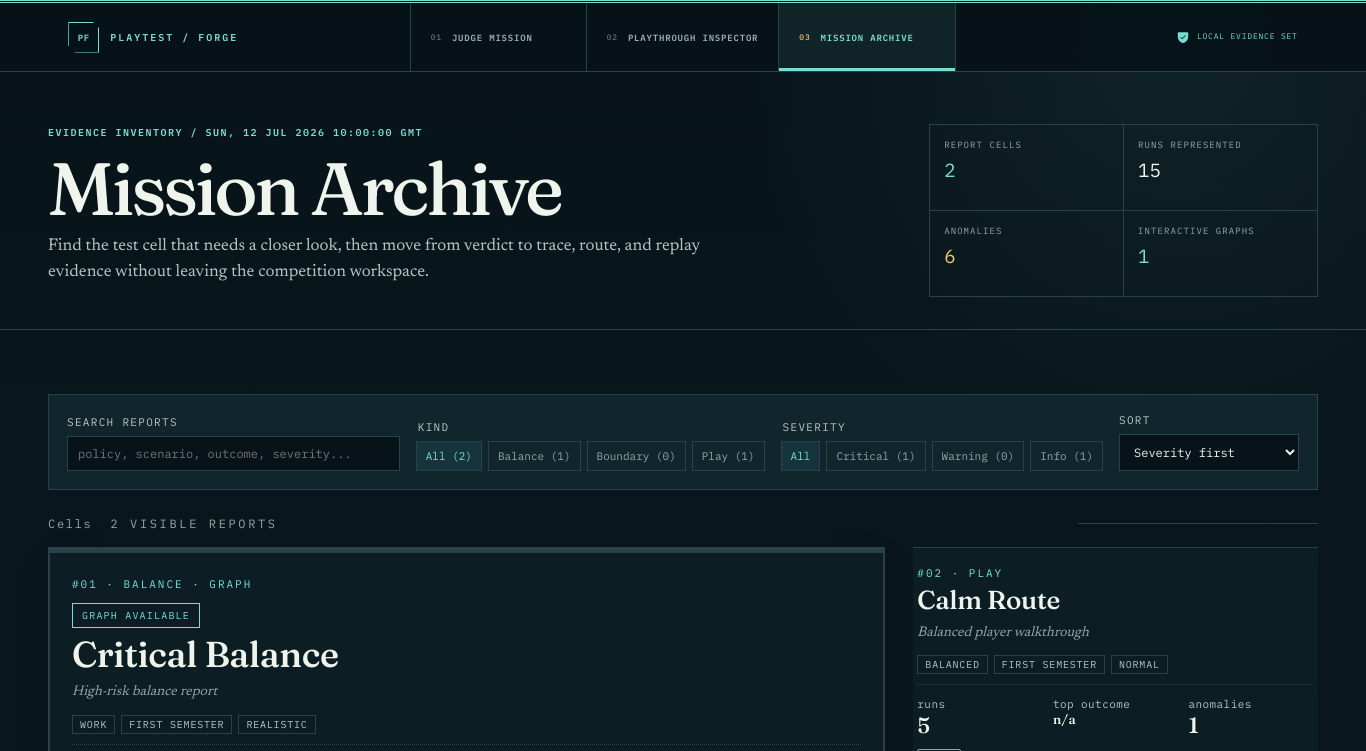
Scenario: application routes › renders the report index and filters cards with search and severity controls
The width and height of the screenshot is (1366, 751).
Check: the heading "Mission Archive" is shown, box left=48, top=143, right=561, bottom=234
Check: the heading "Critical Balance" is shown, box left=72, top=632, right=338, bottom=676
Type "calm" into the field with placeholder "policy, scenario, outcome, severity...". click: (233, 454)
box: left=67, top=436, right=400, bottom=471
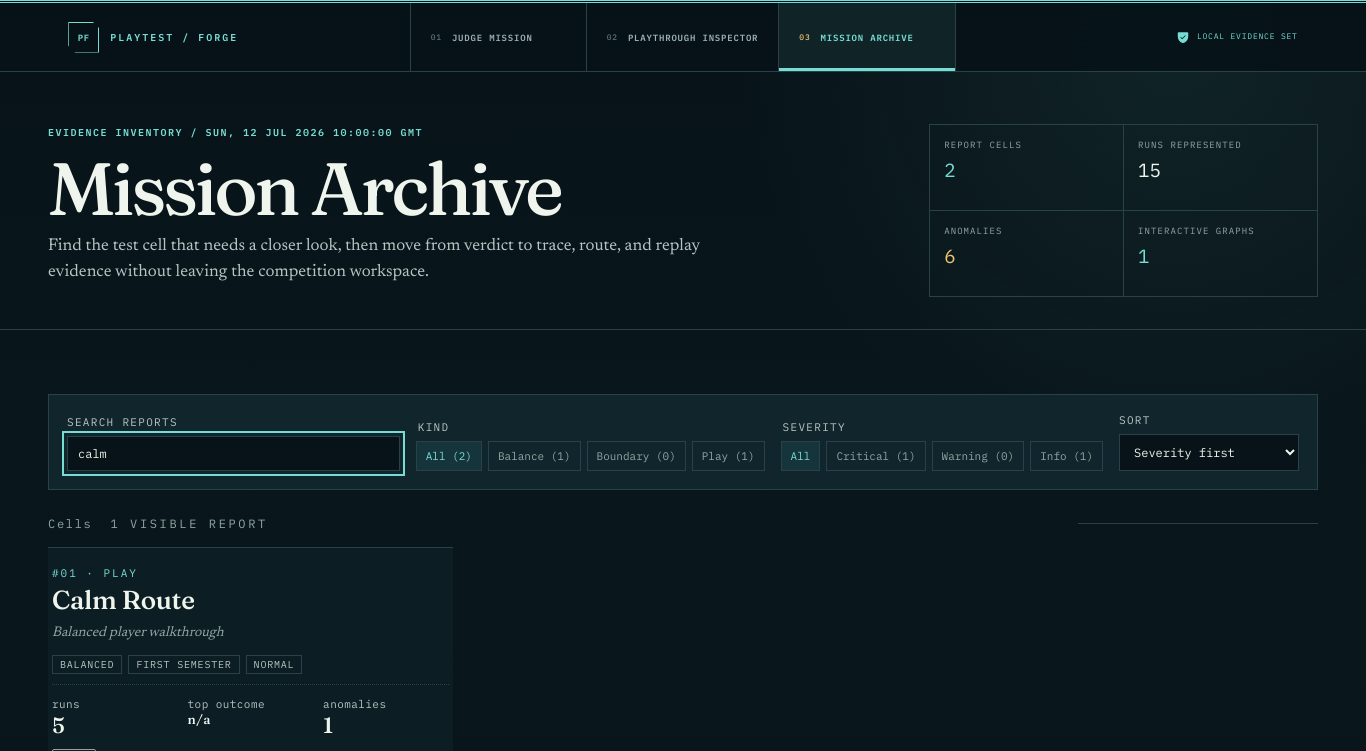
Check: the heading "Calm Route" is shown, box left=52, top=584, right=195, bottom=616
Check: the link "Critical Balance" is gone
Clear the field with placeholder "policy, scenario, outcome, severity...". click: (233, 454)
box: left=67, top=436, right=400, bottom=471
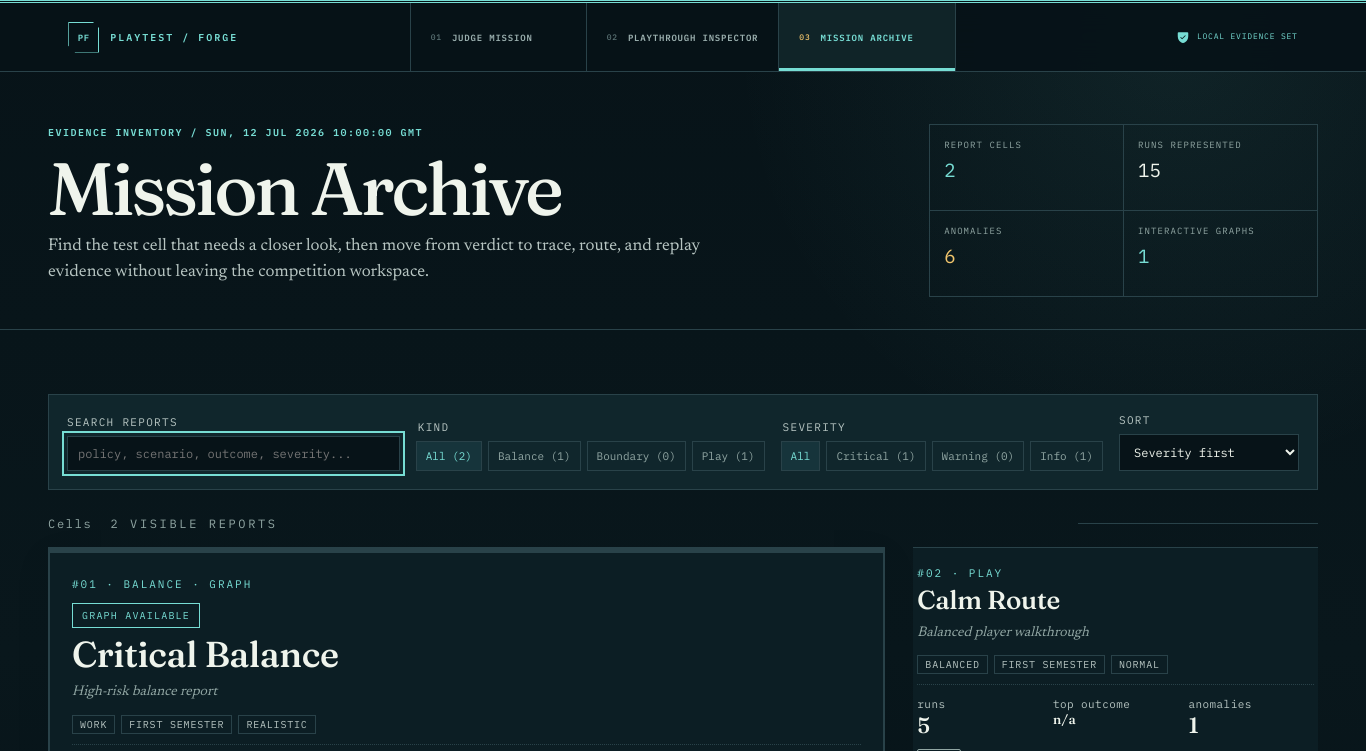
Click the button "Info (1)". click: click(1067, 456)
box: left=1030, top=441, right=1103, bottom=471
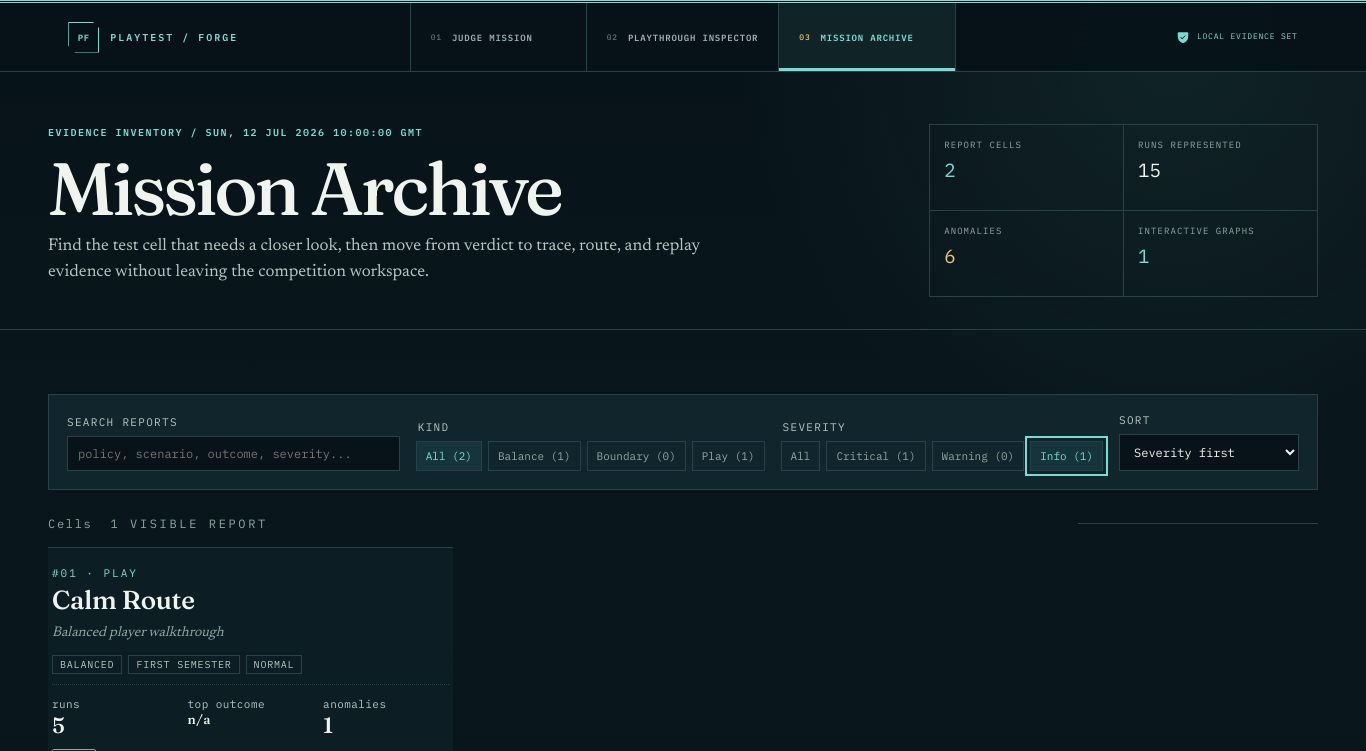
Check: the link "Critical Balance" is gone
Check: the text "1 visible report" is shown, box left=110, top=516, right=268, bottom=531
Type "no-such-report" into the field with placeholder "policy, scenario, outcome, severity...". click: (233, 454)
box: left=67, top=436, right=400, bottom=471
(page scrolled)
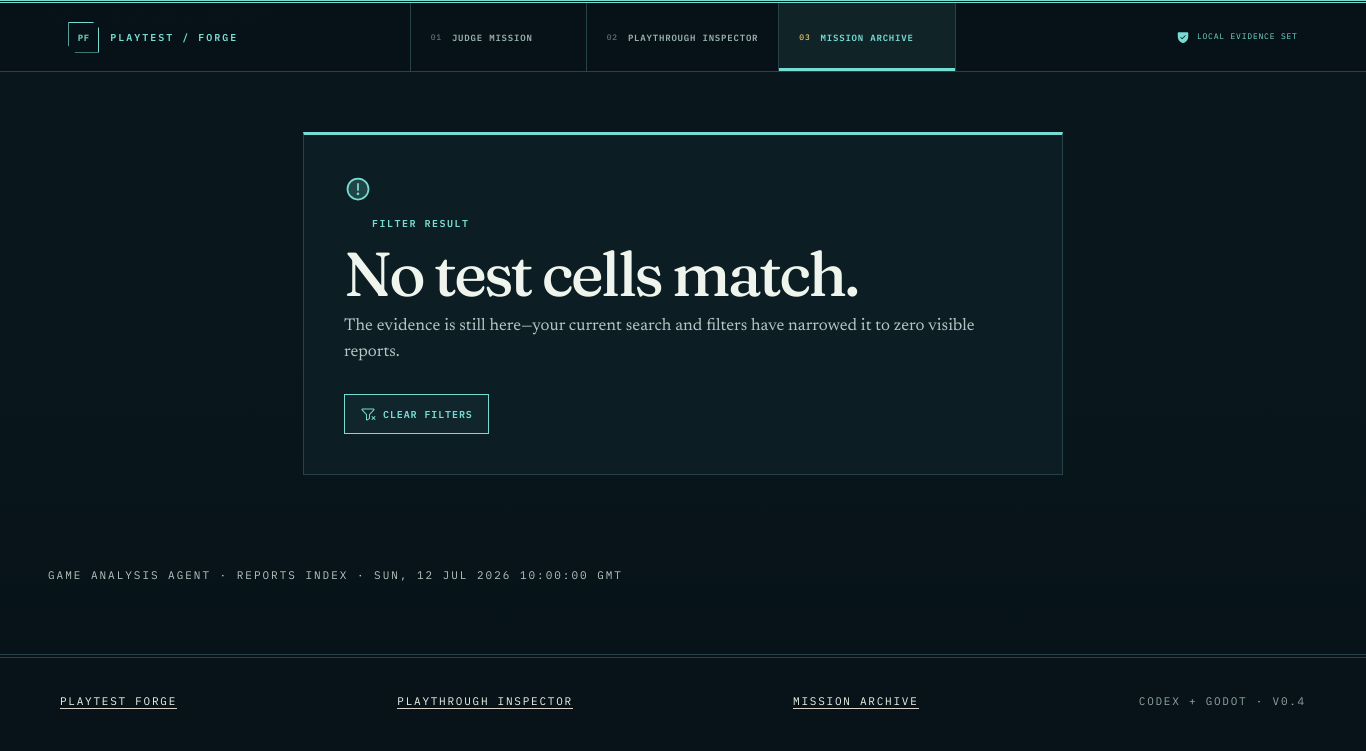
Check: the heading "No test cells match." is shown, box left=344, top=235, right=857, bottom=312
Click the button "Clear filters". click: click(416, 414)
box: left=344, top=394, right=489, bottom=434
(page scrolled)
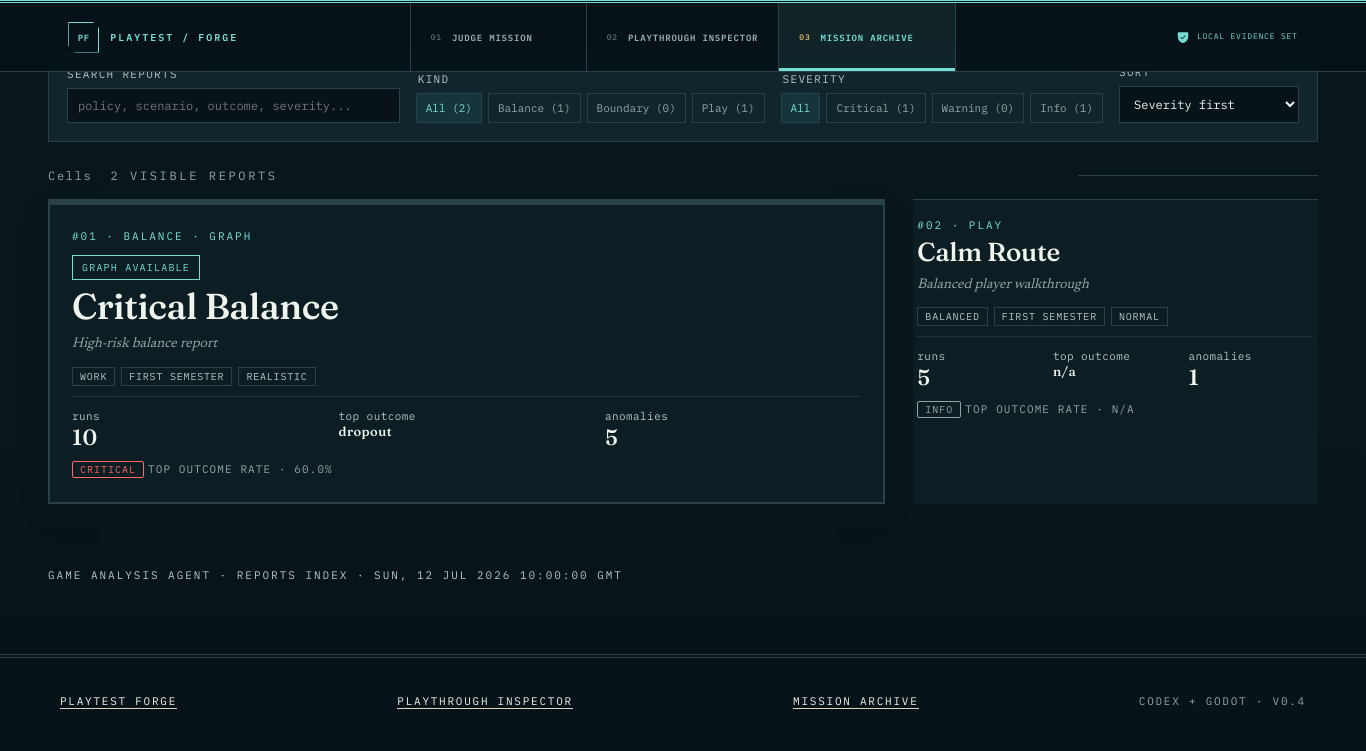
Check: the heading "Critical Balance" is shown, box left=72, top=284, right=338, bottom=328
